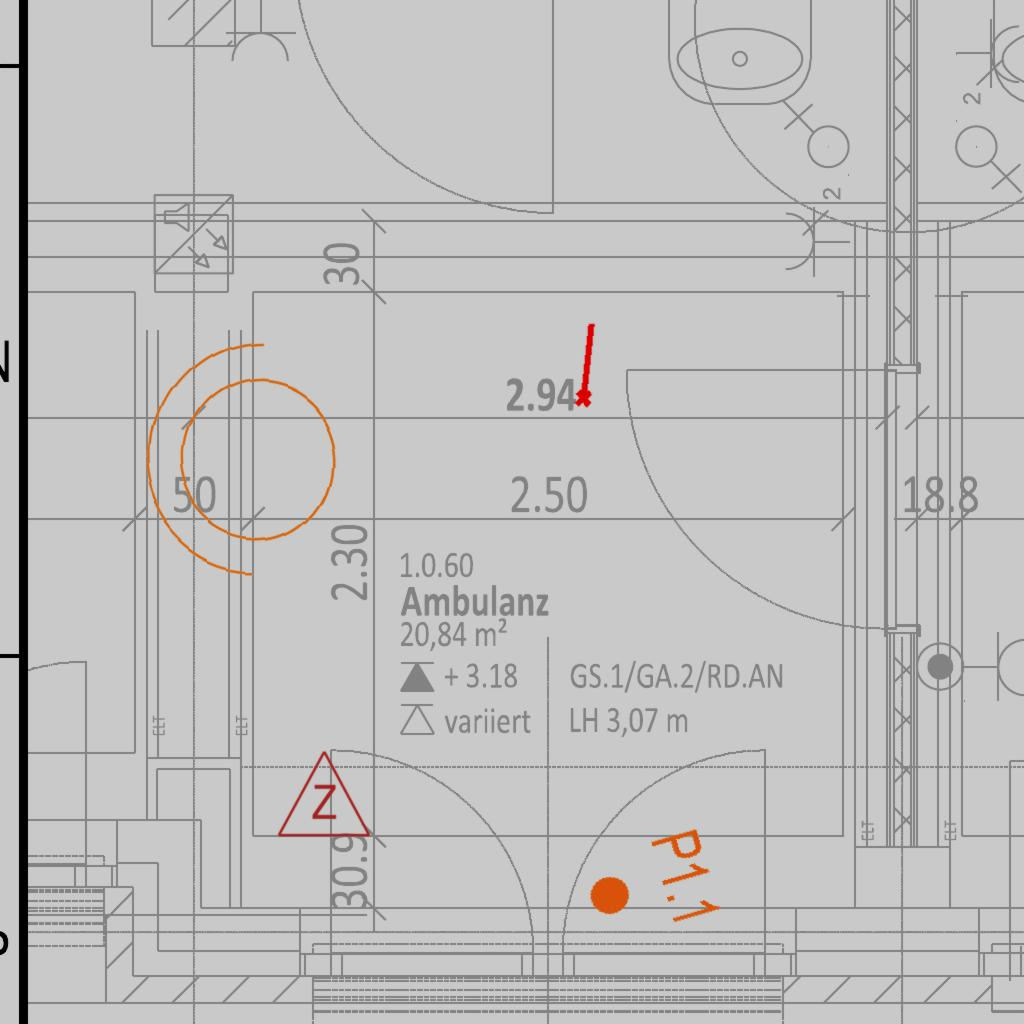ASR_Ansaugoeffnung: (569, 319, 603, 410)
Downlight_LED_Einbauleuchten_Flur: (576, 824, 725, 950)
Scheinwerfer_fuer_Alarmbeleuchtung: (128, 327, 368, 604)
Zimmersignalleuchte: (274, 744, 372, 844)
